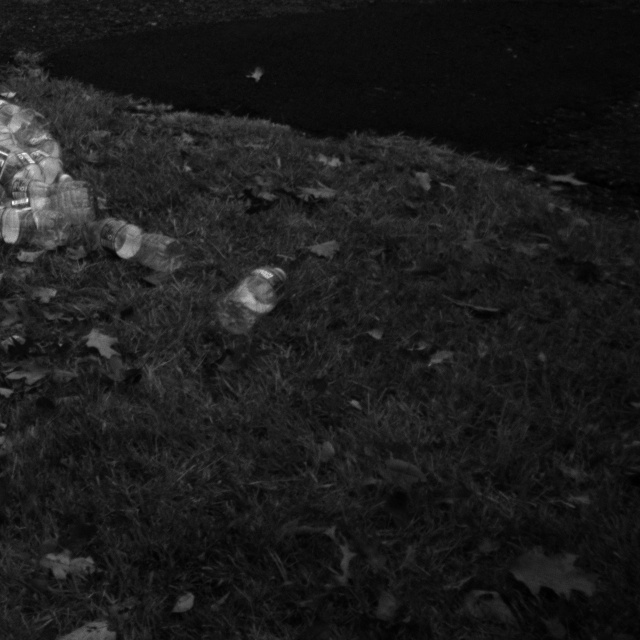bottle: (195, 247, 297, 346), (85, 209, 198, 279), (0, 107, 85, 196), (0, 190, 88, 250), (0, 122, 52, 198)
